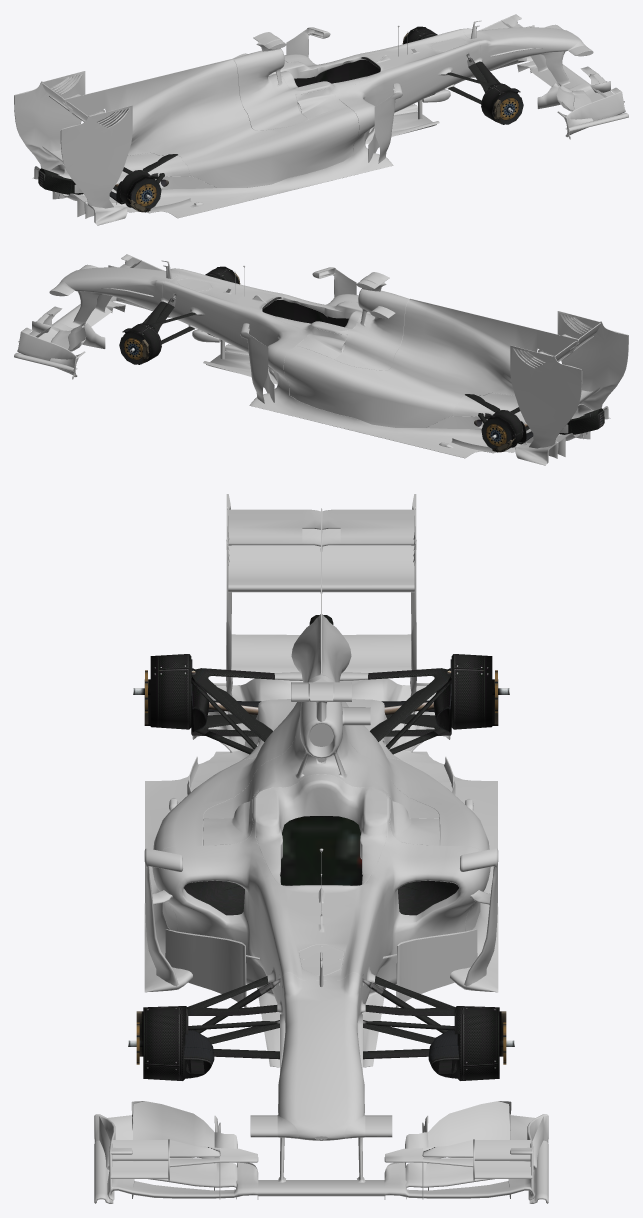
File: Car.obj
The picture shows the model from 3 angles, top to bottom: view 1: azimuth 30°, elevation 25°; view 2: azimuth 150°, elevation 25°; view 3: azimuth 270°, elevation 25°; orthographic projection. The views are drawn at different scales.
Visible parts, largest first — view 1: object__57.003, object__23.003, object__58.003, object__53.003, object__54.003, object__22.003, object__0.004, object__55.003, object__56.003, object__30.003, object__16.004, object__61.003 (+12 smaller); view 2: object__57.003, object__24.003, object__58.003, object__54.003, object__53.003, object__22.003, object__0.004, object__55.003, object__56.003, object__31.003, object__16.004, object__62.003 (+12 smaller); view 3: object__57.003, object__66.003, object__22.003, object__0.004, object__55.003, object__58.003, object__23.003, object__62.003, object__61.003, object__24.003, object__27.003, object__26.003 (+19 smaller).
Part boxes in pixels (bbox=[...]): object__57.003: bbox=[54, 25, 482, 218]; object__23.003: bbox=[58, 106, 358, 189]; object__58.003: bbox=[65, 58, 250, 155]; object__53.003: bbox=[60, 105, 132, 208]; object__54.003: bbox=[14, 71, 85, 170]; object__22.003: bbox=[462, 20, 593, 77]; object__0.004: bbox=[478, 14, 625, 139]; object__55.003: bbox=[38, 60, 435, 194]; object__56.003: bbox=[233, 49, 374, 134]; object__30.003: bbox=[374, 83, 402, 163]; object__16.004: bbox=[32, 164, 128, 225]; object__61.003: bbox=[537, 83, 591, 111]; object__57.003: bbox=[160, 265, 587, 458]; object__24.003: bbox=[284, 346, 584, 429]; object__58.003: bbox=[392, 298, 577, 395]; object__54.003: bbox=[510, 345, 582, 448]; object__53.003: bbox=[557, 311, 628, 410]; object__22.003: bbox=[49, 260, 180, 317]; object__0.004: bbox=[17, 254, 164, 379]; object__55.003: bbox=[207, 300, 604, 434]; object__56.003: bbox=[268, 289, 409, 374]; object__31.003: bbox=[240, 323, 268, 403]; object__16.004: bbox=[514, 404, 610, 465]; object__62.003: bbox=[51, 323, 105, 351]; object__57.003: bbox=[144, 717, 498, 1067]; object__66.003: bbox=[228, 509, 414, 593]; object__22.003: bbox=[250, 952, 392, 1140]; object__0.004: bbox=[94, 1114, 548, 1200]; object__55.003: bbox=[184, 615, 458, 915]; object__58.003: bbox=[250, 508, 392, 781]; object__23.003: bbox=[152, 699, 296, 931]; object__62.003: bbox=[405, 1101, 511, 1190]; object__61.003: bbox=[131, 1101, 237, 1190]; object__24.003: bbox=[346, 699, 490, 931]; object__27.003: bbox=[428, 1006, 514, 1080]; object__26.003: bbox=[128, 1006, 214, 1080].
Size of the model in its own units: 4.95 by 1.05 by 1.8.
